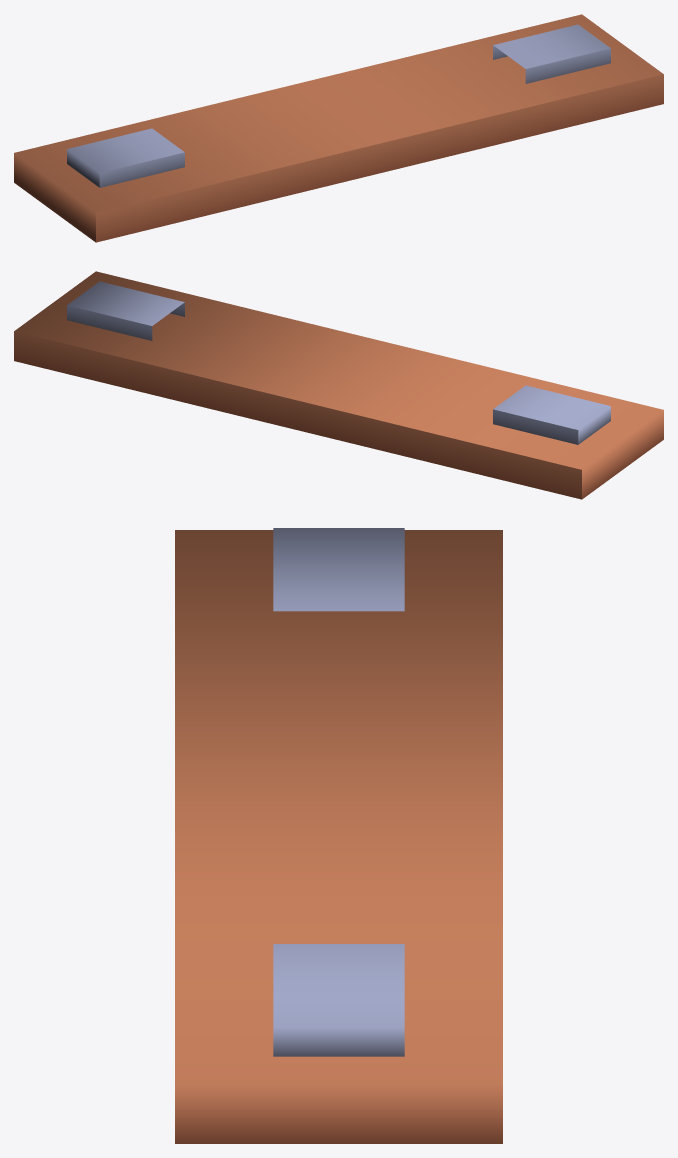
The model's file is spline-segment.glb.
The picture shows the model from 3 angles, top to bottom: view 1: azimuth 30°, elevation 25°; view 2: azimuth 150°, elevation 25°; view 3: azimuth 270°, elevation 25°; orthographic projection. The views are drawn at different scales.
Parts seen in each view (by area): view 1: spline-segment; view 2: spline-segment; view 3: spline-segment.
Part boxes in pixels (x1,y1,x2,y2): spline-segment: (14, 14, 663, 242); spline-segment: (14, 271, 663, 499); spline-segment: (175, 528, 502, 1143).
Bounding box in the file's own units: 1 × 0.075 × 0.25.
